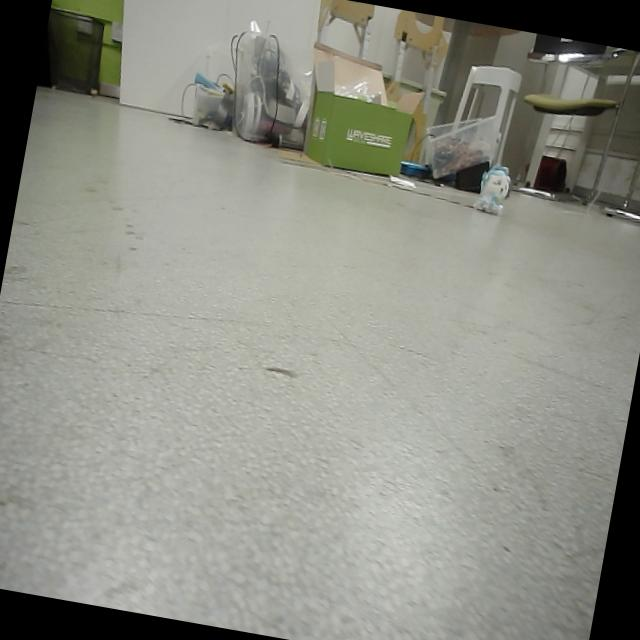xiaoba: (472, 150, 516, 220)
